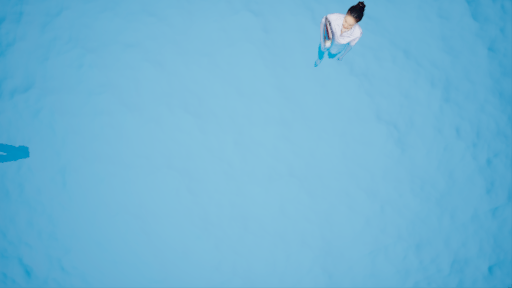person: (309, 2, 373, 74)
